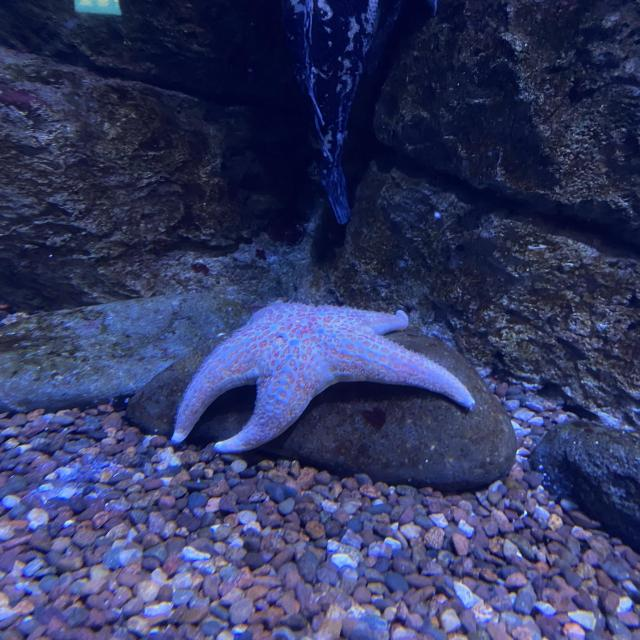starfish: (172, 301, 475, 453)
